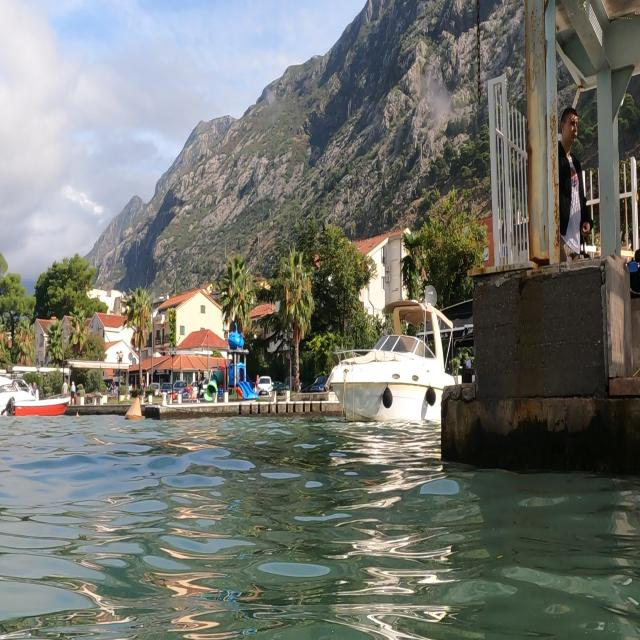boat: (324, 284, 458, 426), (0, 352, 78, 421)
buoy: (122, 396, 146, 424)
